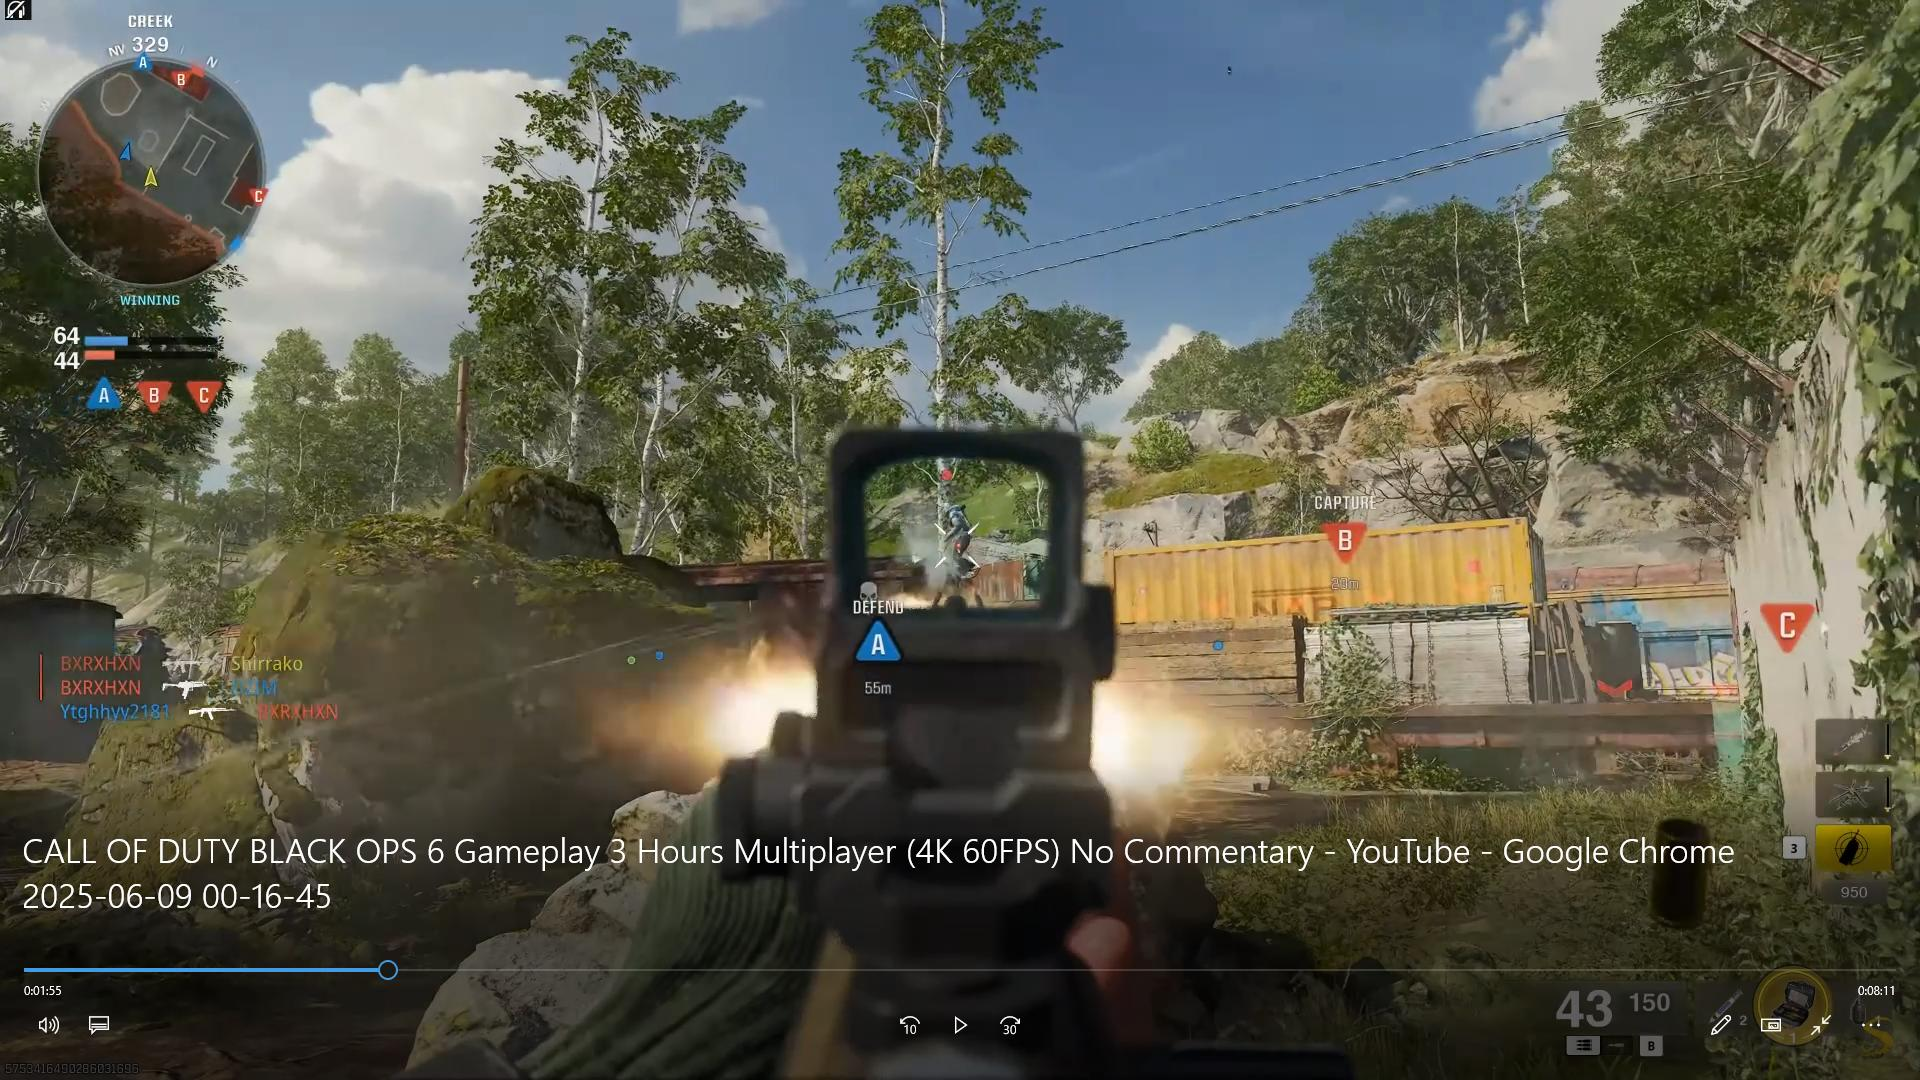Enemy: (928, 500, 981, 568)
